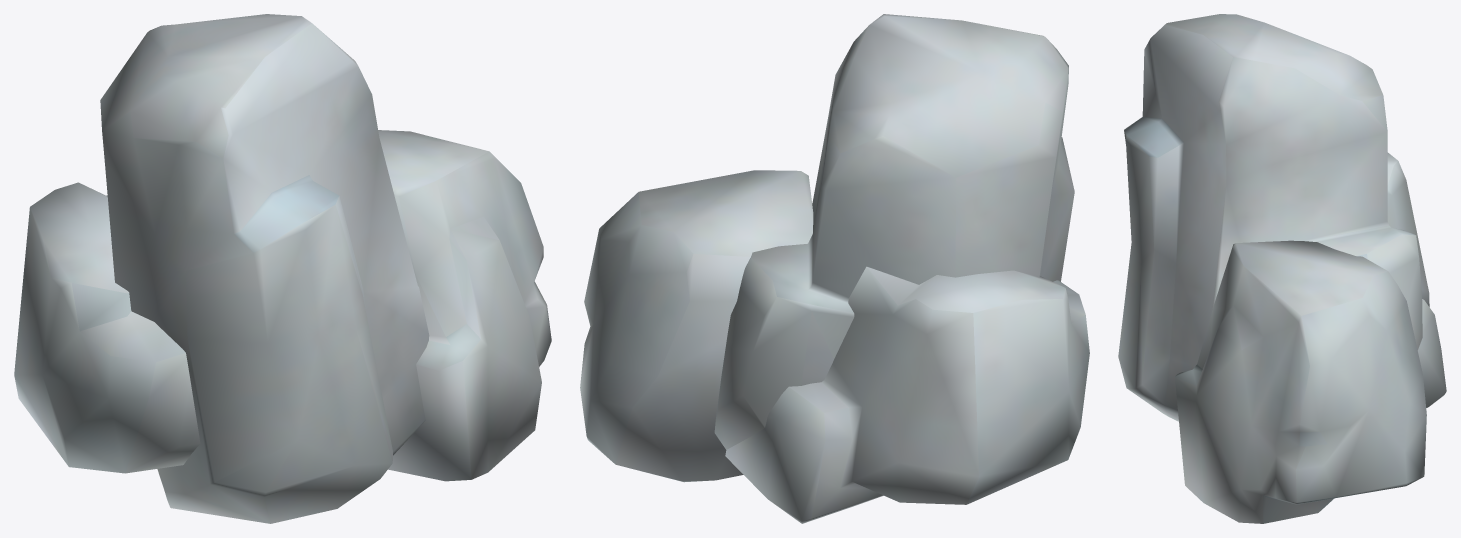
Rendered from P_RockSpire_RockClumpB03.obj.
3 renders of one model, left to right at view 1: azimuth 30°, elevation 25°; view 2: azimuth 150°, elevation 25°; view 3: azimuth 270°, elevation 25°, orthographic. The views are drawn at different scales.
Bounding box in the file's own units: 9.91 × 8.97 × 6.79.
